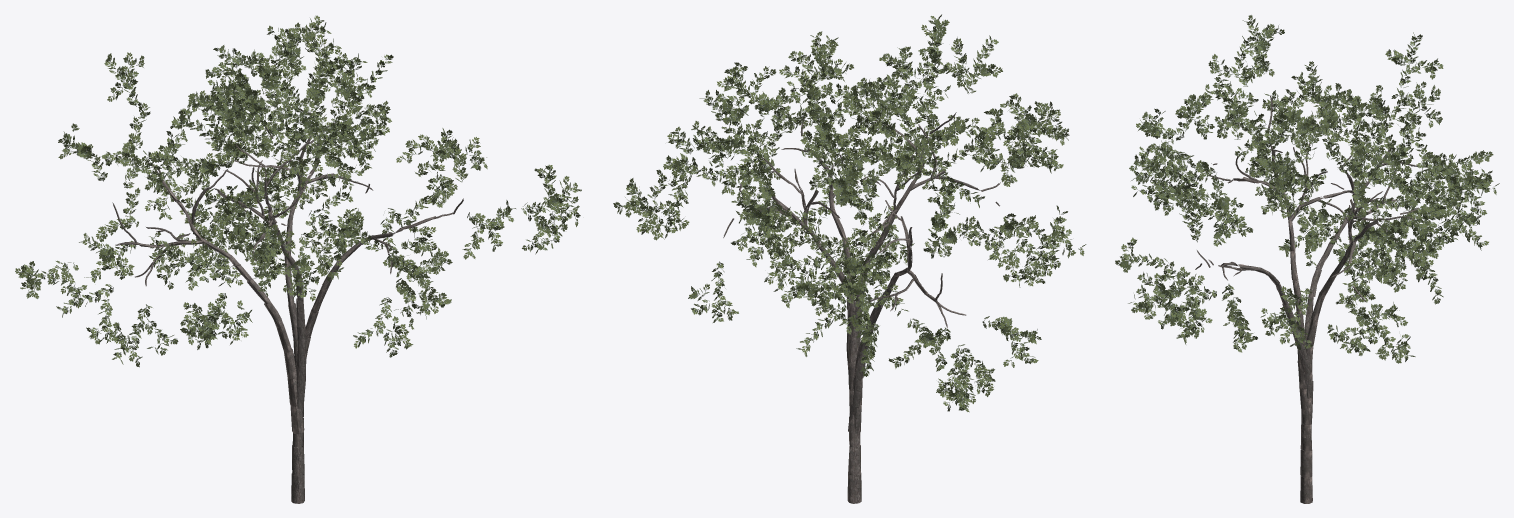
Rendered from elm1.glb.
3 views of the same model, side by side, from view 1: azimuth 30°, elevation 25°; view 2: azimuth 150°, elevation 25°; view 3: azimuth 270°, elevation 25° (orthographic). The views are drawn at different scales.
Visible parts, largest first — view 1: leaves, bark; view 2: leaves, bark; view 3: leaves, bark.
Part boxes in pixels (x1=…): leaves: x1=15, y1=15, x2=581, y2=367; bark: x1=112, y1=106, x2=463, y2=503; leaves: x1=613, y1=14, x2=1086, y2=412; bark: x1=723, y1=111, x2=1000, y2=503; leaves: x1=1115, y1=15, x2=1499, y2=363; bark: x1=1195, y1=95, x2=1424, y2=503.
Bounding box in the file's own units: 23.31 × 24.83 × 19.63.
Materials: 2 (2 with a texture image).
